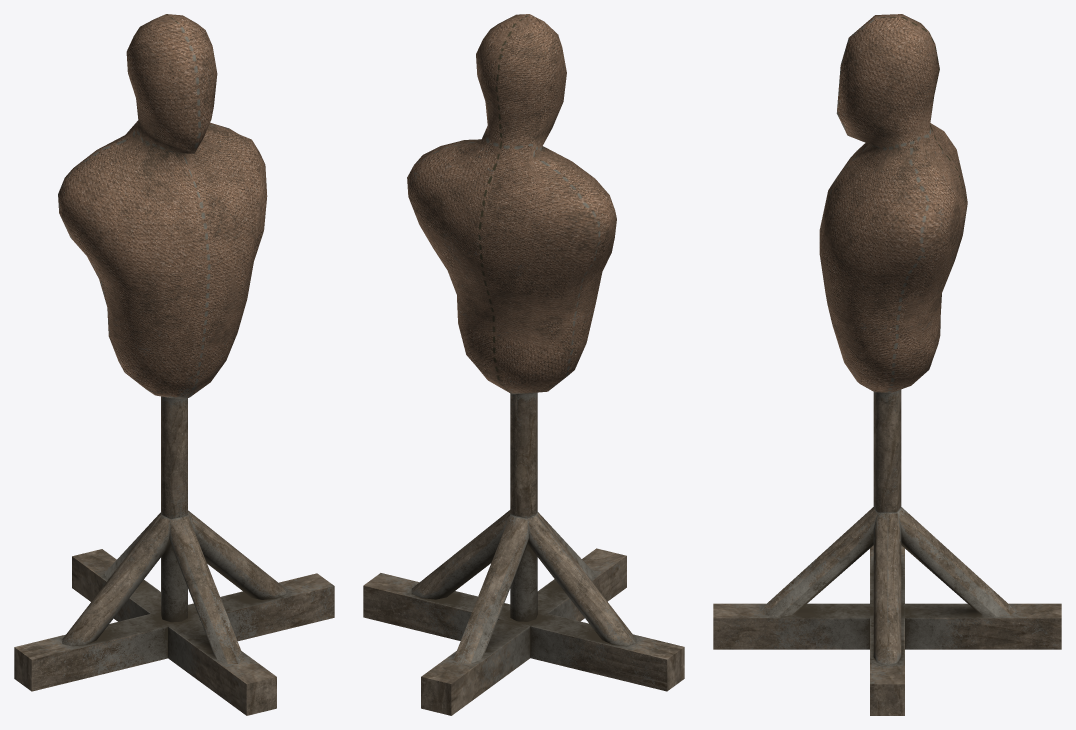
Rendered from dummy ch.fbx.
3 renders of one model, left to right at view 1: azimuth 30°, elevation 25°; view 2: azimuth 150°, elevation 25°; view 3: azimuth 270°, elevation 25°, orthographic.
Visible parts, largest first — view 1: Box002; view 2: Box002; view 3: Box002.
Part boxes in pixels (x1,y1,x2,y2): Box002: [14, 14, 334, 715]; Box002: [363, 14, 684, 715]; Box002: [713, 14, 1061, 715].
Size of the model in its own units: 6.1 by 12.1 by 6.1.
